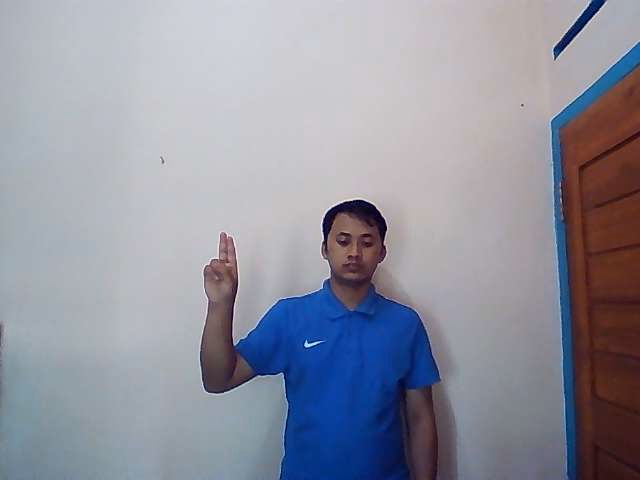U: (203, 231, 238, 303)
